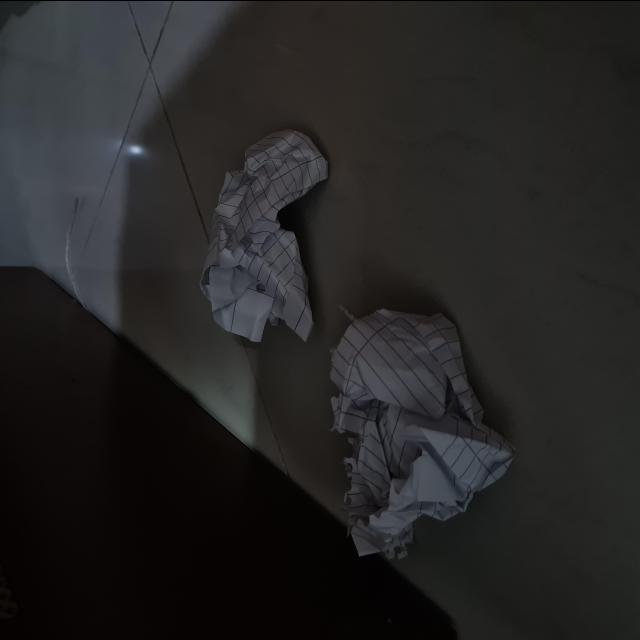kertas: (328, 310, 512, 560), (193, 126, 320, 340)
